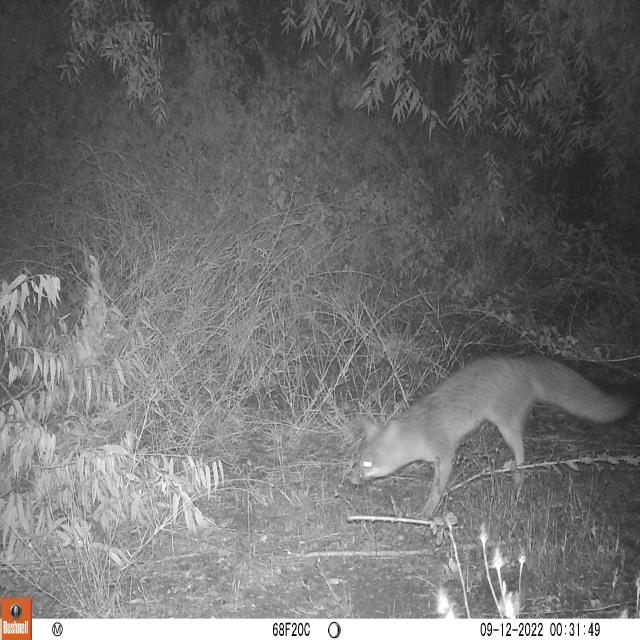Fox: (340, 343, 640, 515)
